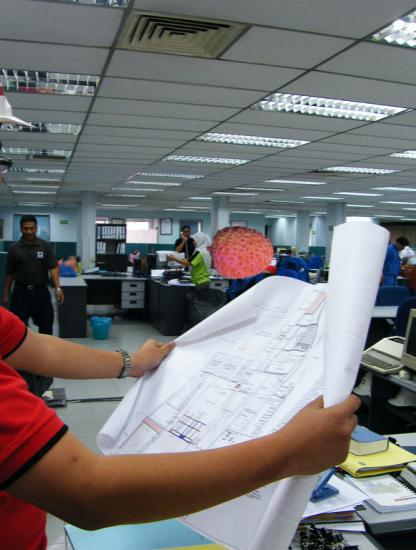Lychee: (204, 218, 275, 289)
